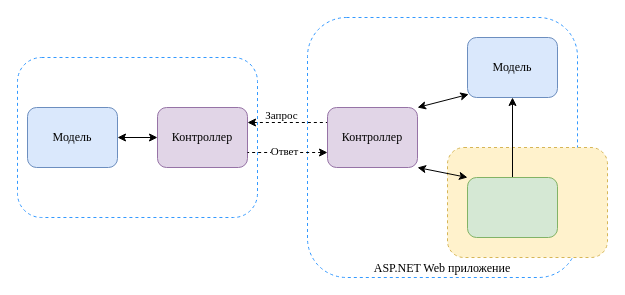
This 625x295 diagram has some shape labels left out. The shapes that lost their labels are listed below. From the top down, each one's box as (x1, y1, x2, y2) in pixels, then its label:
(16, 56, 258, 218): ASP.NET Web API приложение
(466, 176, 558, 238): Представление
(446, 146, 608, 258): HTTP клиент (веб-браузер)
